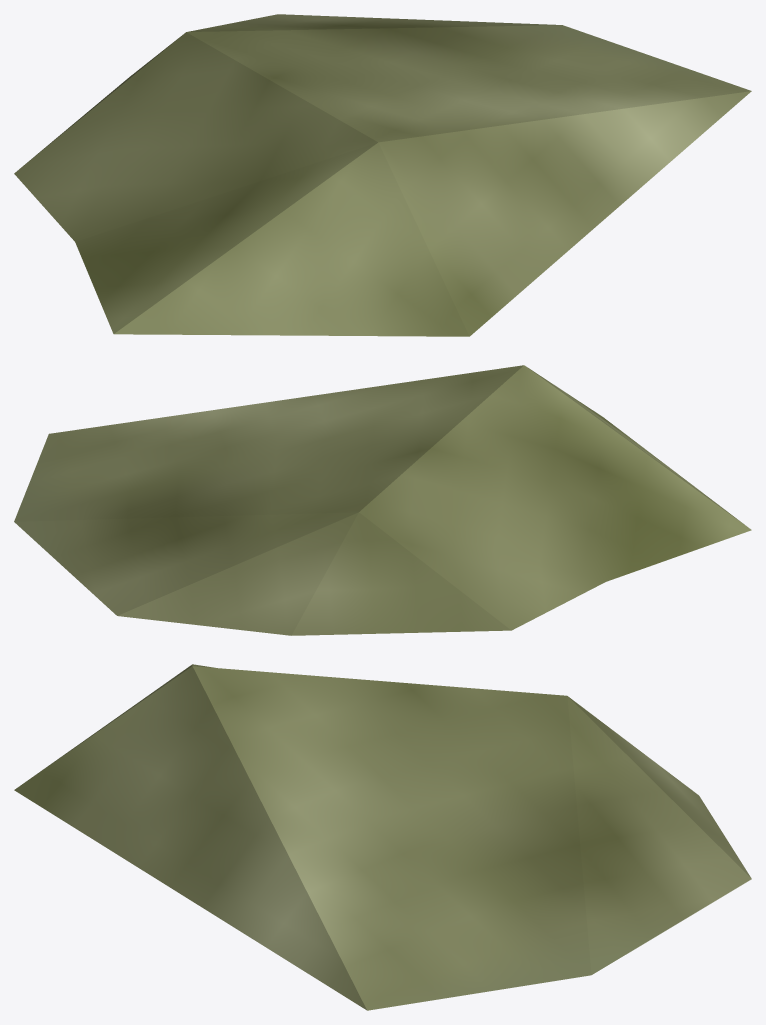
3 views of the same model, one above another, from view 1: azimuth 30°, elevation 25°; view 2: azimuth 150°, elevation 25°; view 3: azimuth 270°, elevation 25° (orthographic). The views are drawn at different scales.
Bounding box in the file's own units: 0.6768 × 0.1131 × 0.6092.
1 material, 1 textured.
